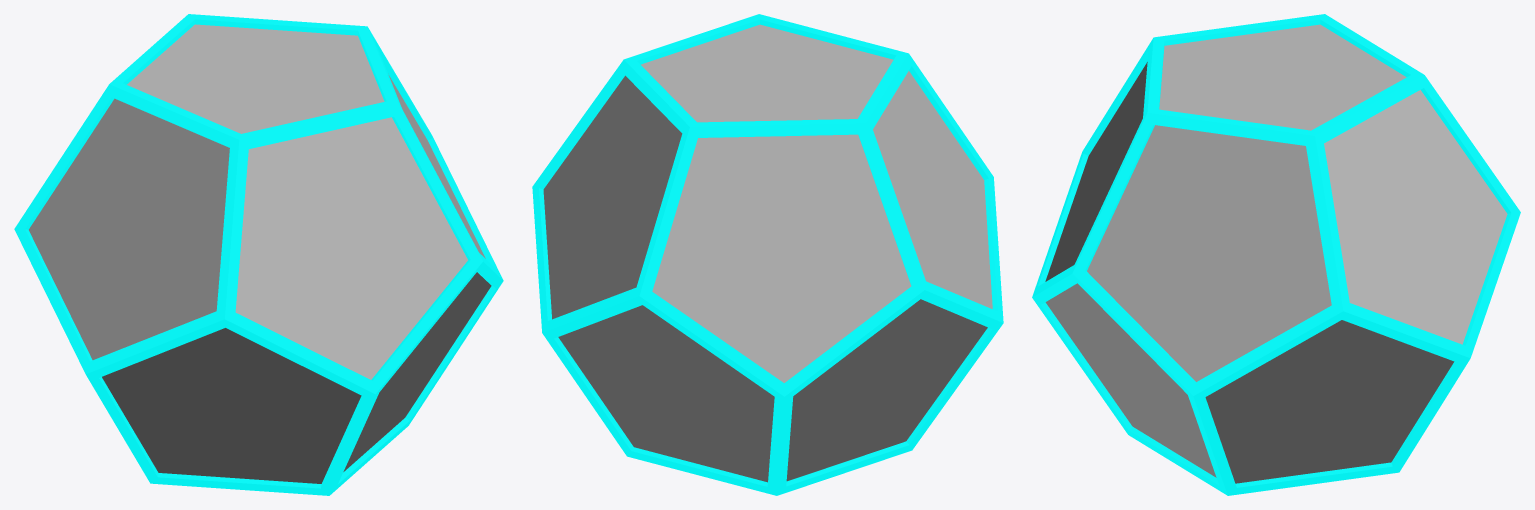
Rendered from SFI0210016.fbx.
The picture shows the model from 3 angles, left to right: view 1: azimuth 30°, elevation 25°; view 2: azimuth 150°, elevation 25°; view 3: azimuth 270°, elevation 25°; orthographic projection. The views are drawn at different scales.
Visible parts, largest first — view 1: smSFI0210016; view 2: smSFI0210016; view 3: smSFI0210016.
Part boxes in pixels (x1,y1,x2,y2): smSFI0210016: (14,14,503,495); smSFI0210016: (532,14,1003,495); smSFI0210016: (1032,14,1520,495).
Size of the model in its own units: 134 by 114 by 138.
